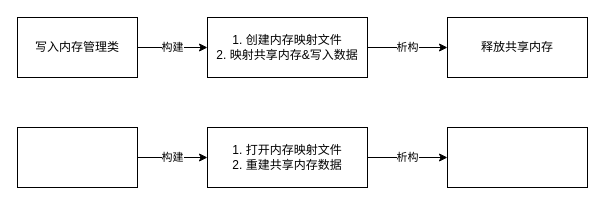
This 605x205 diagram has some shape labels left out. The shapes that lost their labels are listed below. From the top down, each one's box as (x1, y1, x2, y2) in pixels, then its label:
(16, 126, 138, 188): 读取内存管理类
(446, 126, 588, 188): 1. 释放共享内存 2. 清理内存映射文件
